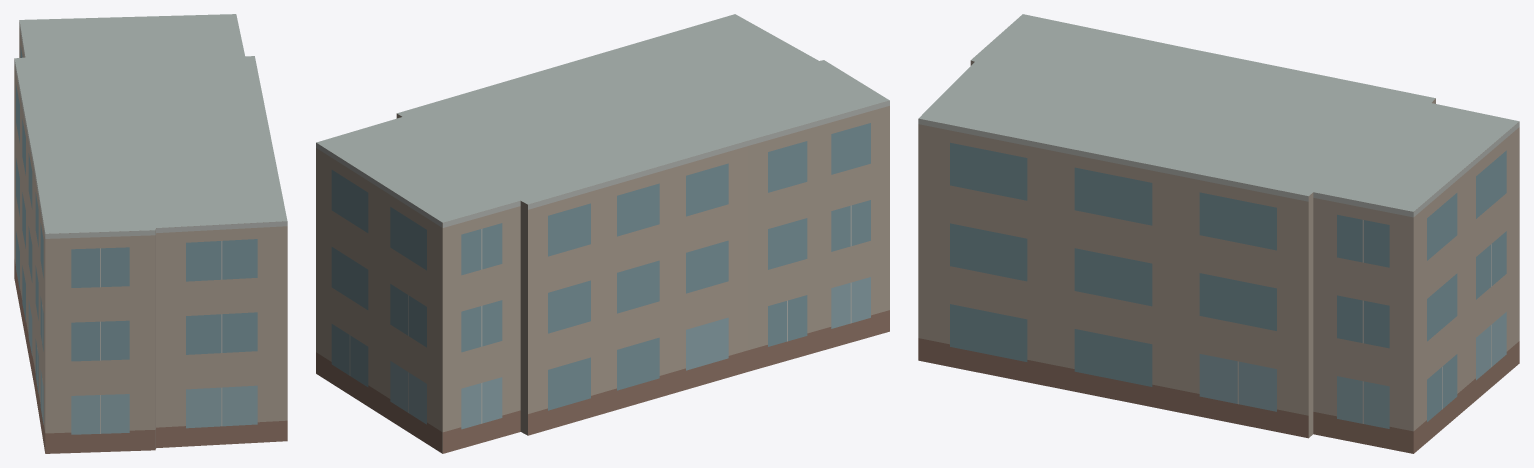
File: survey-upis-32918083.glb
3 views of the same model, side by side, from view 1: azimuth 30°, elevation 25°; view 2: azimuth 150°, elevation 25°; view 3: azimuth 270°, elevation 25° (orthographic). The views are drawn at different scales.
Parts seen in each view (by area): view 1: survey-upis-32918083.tmp; view 2: survey-upis-32918083.tmp; view 3: survey-upis-32918083.tmp.
Boxes of the visible parts, box(x1,y1,x2,y2) form: survey-upis-32918083.tmp: box(14, 14, 287, 453); survey-upis-32918083.tmp: box(316, 14, 889, 453); survey-upis-32918083.tmp: box(918, 14, 1519, 453).
Size of the model in its own units: 18.59 by 10.6 by 23.87.
